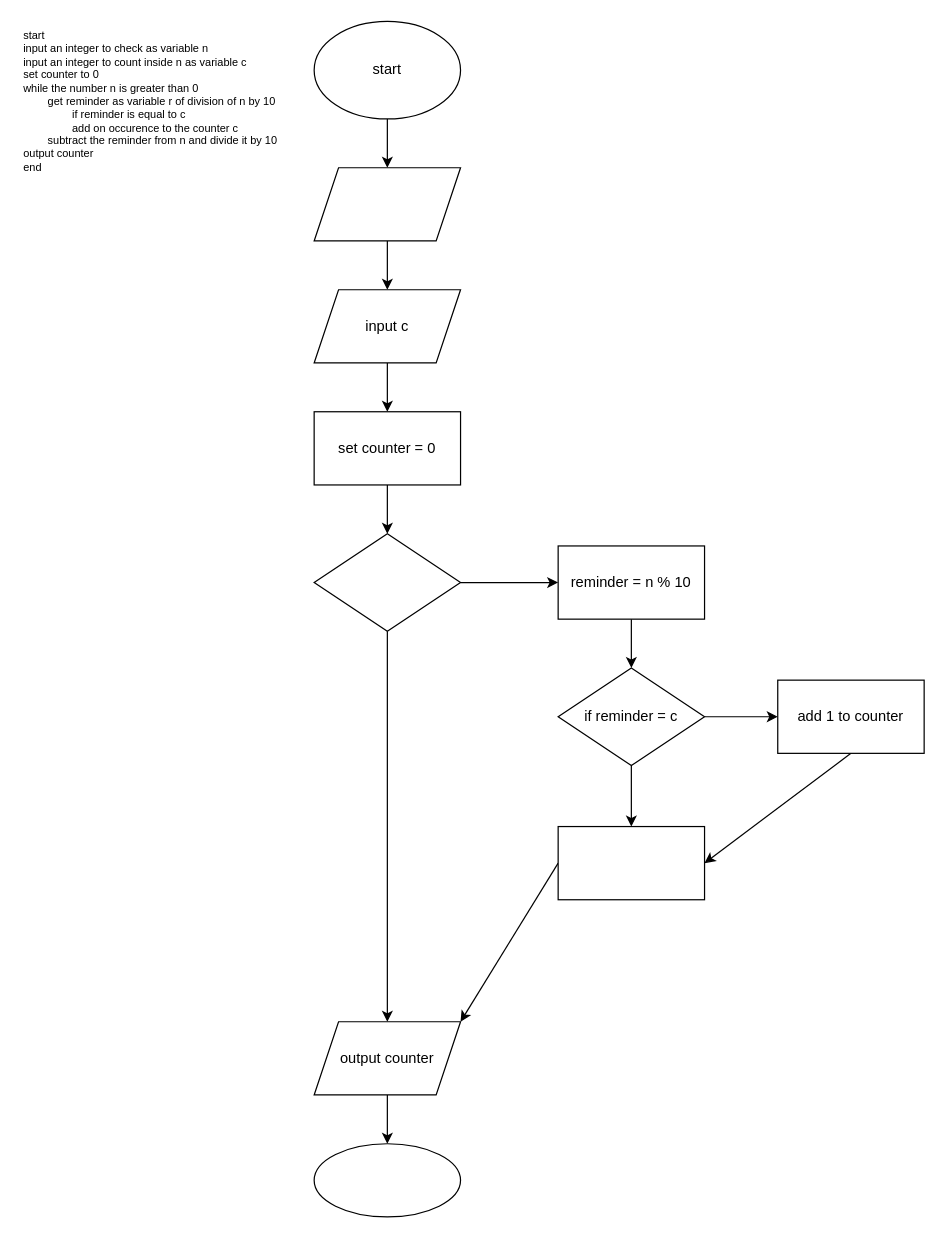
Image size: 946x1238. Some labels were removed from this diagram. Each missing label, with the box of its shape:
(n - reminder) / 10: (557, 825, 705, 900)
end: (313, 1143, 461, 1217)
input n: (313, 167, 461, 241)
while n > 0: (313, 533, 461, 631)
